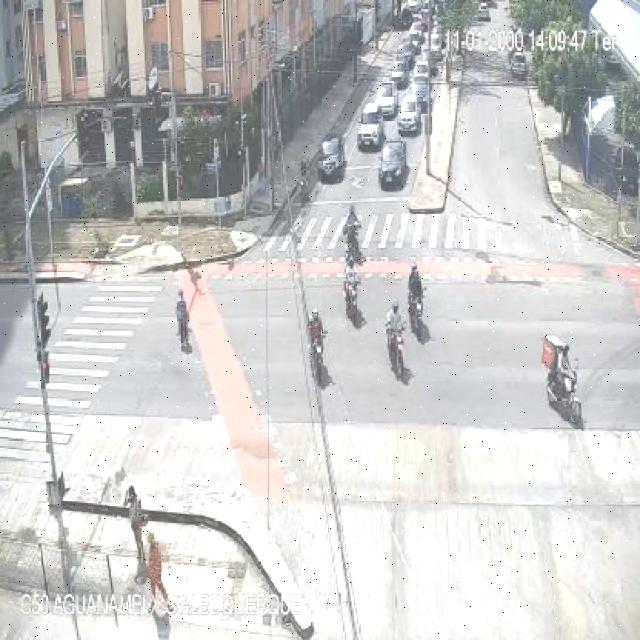Car: (313, 131, 349, 186), (378, 139, 407, 187), (357, 106, 382, 148), (398, 95, 421, 134), (376, 84, 396, 117), (412, 69, 430, 105), (391, 59, 408, 88), (510, 52, 528, 79), (429, 33, 444, 61), (408, 26, 424, 52), (413, 58, 430, 82), (400, 47, 415, 73), (400, 1, 415, 26), (476, 2, 490, 21), (421, 8, 431, 28), (407, 0, 419, 13)
Cycle: (544, 362, 582, 426), (303, 331, 335, 387), (384, 319, 410, 379), (344, 209, 364, 258), (344, 280, 361, 327), (407, 283, 424, 323)
